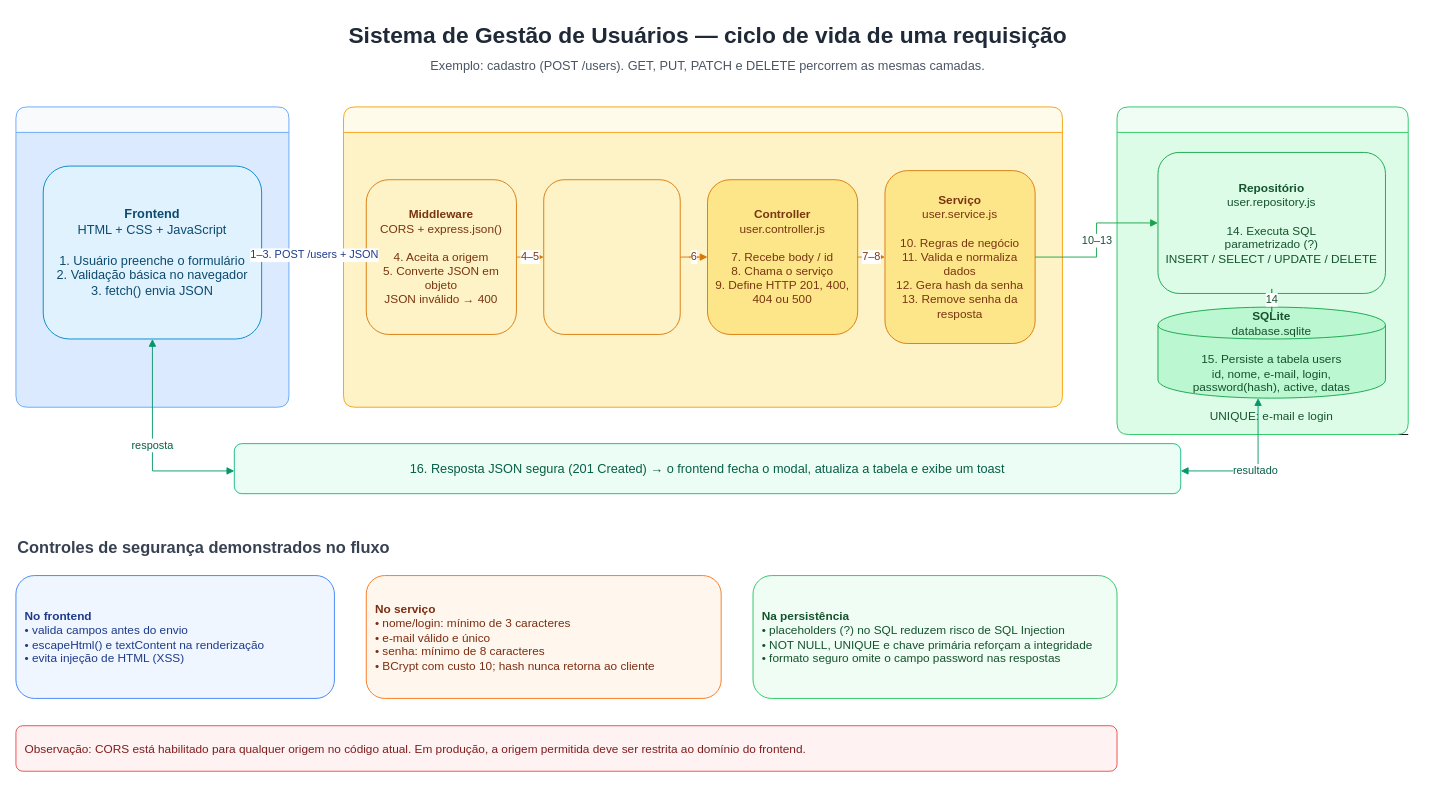
The diagram is 1431 pixels wide and 787 high, and some of its shapes have lost their labels. The shapes that lost their labels are listed below. From the top down, each one's box as (x1, y1, x2, y2) in pixels, then its label:
(15, 106, 289, 407): CLIENTE
(543, 179, 680, 334): Rotas user.routes.js 6. Associa método e URL POST /users ao controller
(343, 106, 1062, 407): SERVIDOR NODE.JS / EXPRESS
(1116, 106, 1408, 435): PERSISTÊNCIA
